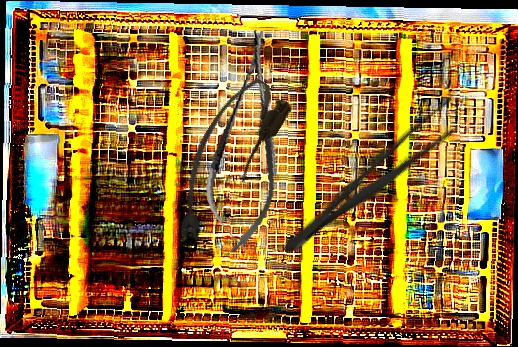Cannula: (150, 70, 297, 253)
Dressing Forceps: (273, 92, 470, 266)
Micro Scissor: (197, 26, 298, 257)
